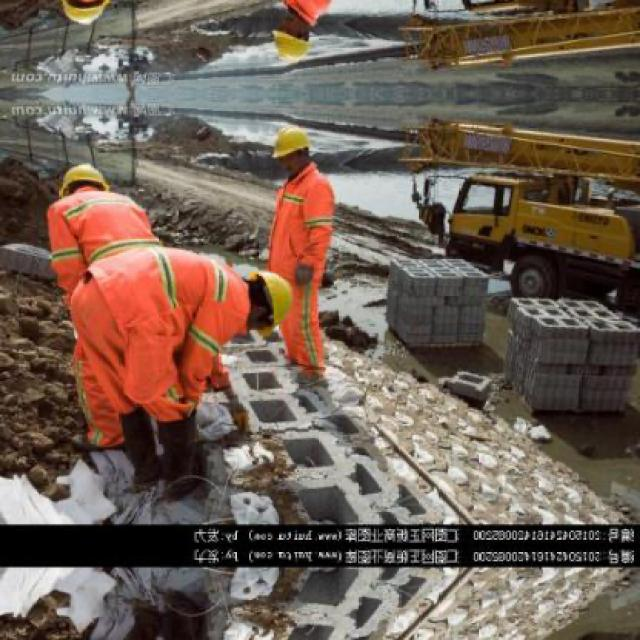con casco: (241, 269, 322, 351), (261, 110, 328, 206), (57, 153, 106, 219)
